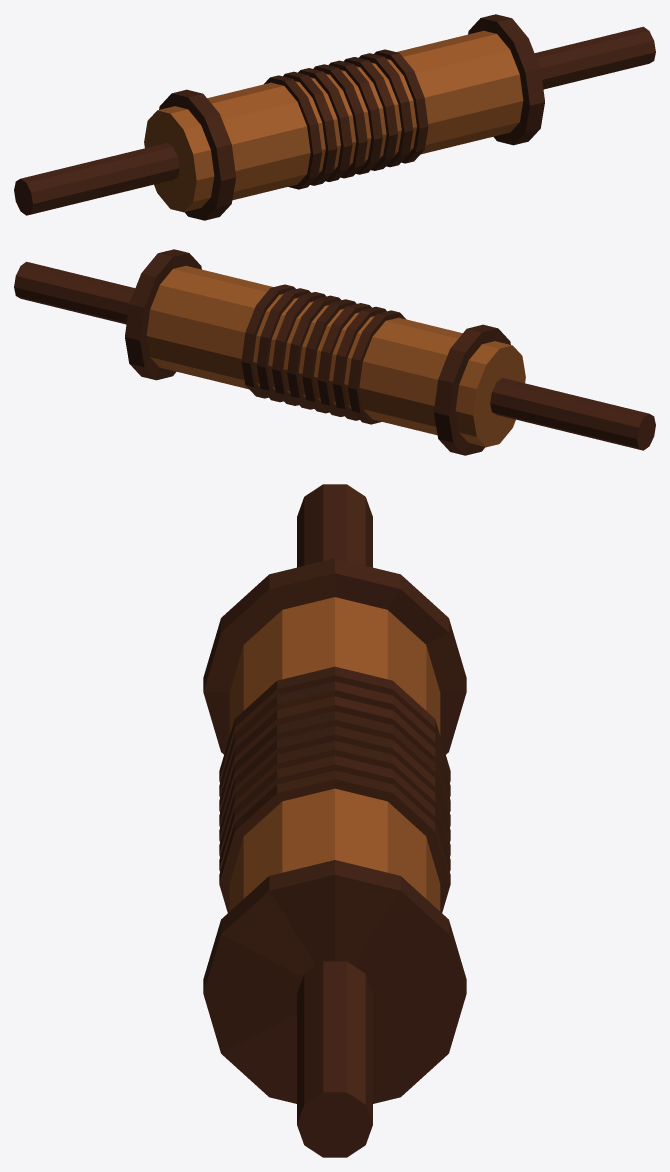
The model's file is D23_Winch_Drum.fbx.
3 views of the same model, one above another, from view 1: azimuth 30°, elevation 25°; view 2: azimuth 150°, elevation 25°; view 3: azimuth 270°, elevation 25° (orthographic). The views are drawn at different scales.
Visible parts, largest first — view 1: D23_Winch_Drum; view 2: D23_Winch_Drum; view 3: D23_Winch_Drum.
Boxes of the visible parts, left/top/right/bottom form: D23_Winch_Drum: left=14, top=14, right=655, bottom=220; D23_Winch_Drum: left=14, top=249, right=655, bottom=455; D23_Winch_Drum: left=203, top=484, right=466, bottom=1157.
Size of the model in its own units: 2.46 by 0.45 by 0.45.
2 materials, 2 textured.
